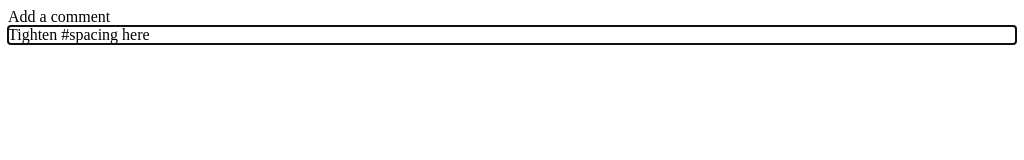
Test: the comment box keeps plain text: pills follow typing, and the caret stays put when they are redrawn
The image size is (1024, 160).
Later steps or results of the test are not shown.
Expected: the text with class "tag-placeholder" reads "Add a comment", x1=8 y1=8 x2=110 y2=25
Clear the dropdown with class "tag-field" at coordinates (79, 34), box x1=8 y1=26 x2=150 y2=43
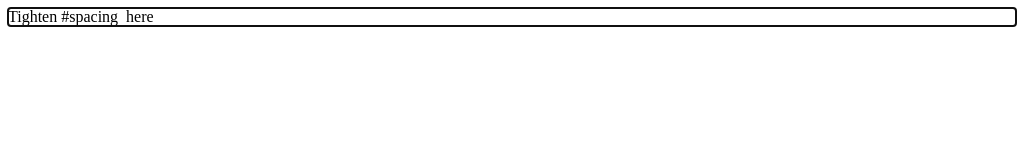
Result: the text with class "tag-placeholder" is gone
